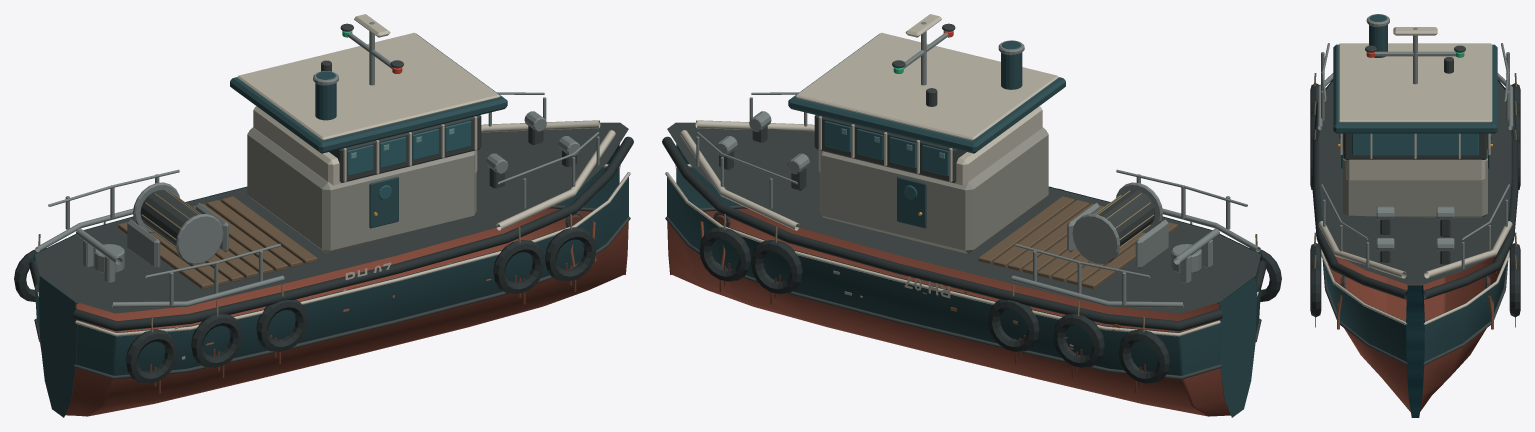
The model's file is c1-harbor-tug.glb.
The picture shows the model from 3 angles, left to right: view 1: azimuth 30°, elevation 25°; view 2: azimuth 150°, elevation 25°; view 3: azimuth 270°, elevation 25°; orthographic projection. The views are drawn at different scales.
Parts seen in each view (by area): view 1: RH07 • four-draw batched display mesh; view 2: RH07 • four-draw batched display mesh; view 3: RH07 • four-draw batched display mesh.
Part boxes in pixels (x1,y1,x2,y2): RH07 • four-draw batched display mesh: [14, 14, 633, 417]; RH07 • four-draw batched display mesh: [662, 14, 1281, 417]; RH07 • four-draw batched display mesh: [1310, 14, 1520, 417].
Bounding box in the file's own units: 16.71 × 8.73 × 5.95.
4 materials, 1 textured.
